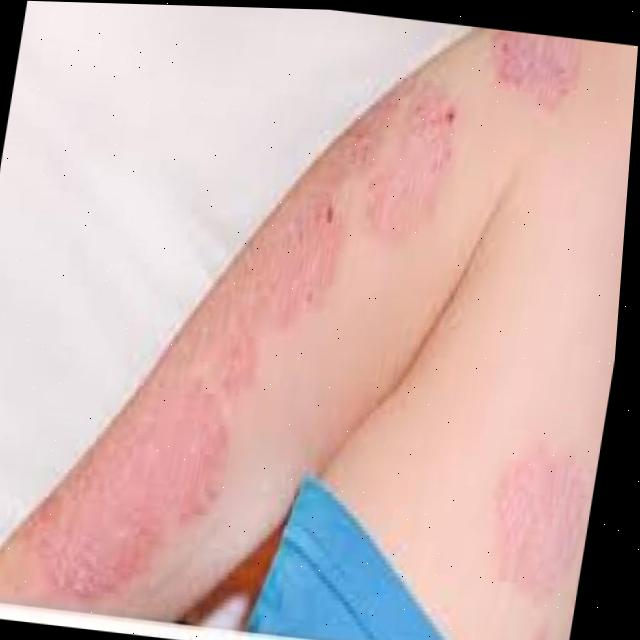Eczema: (9, 54, 475, 611), (489, 444, 600, 602), (498, 30, 573, 99)
